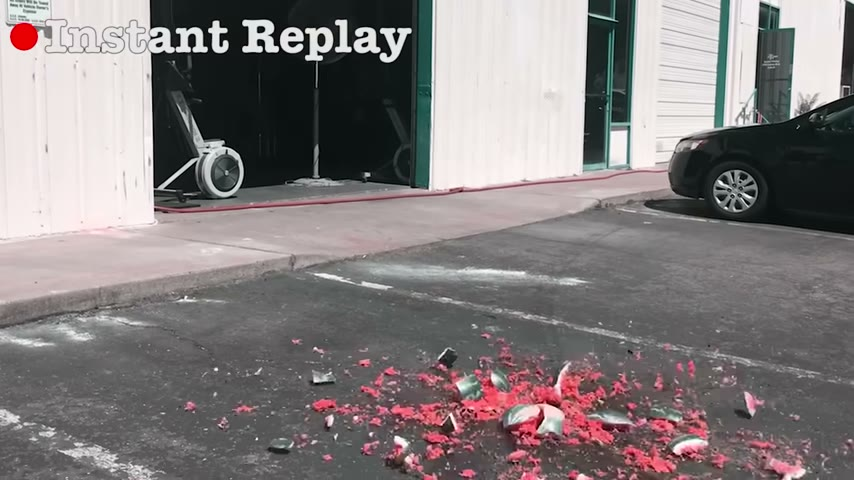barbell_plate_side: (154, 61, 243, 219)
